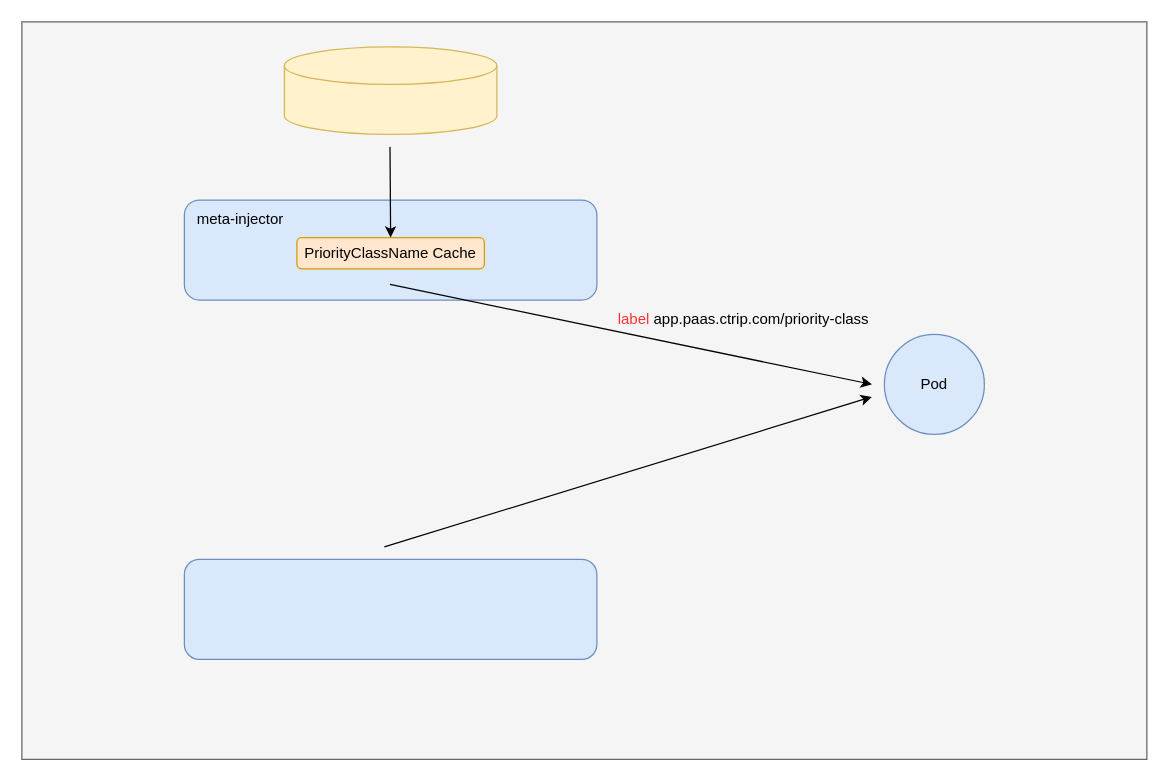
Some shapes in this 1169 by 781 pixel diagram are drawn without their labels. The box of each missing label's shape, as (x1, y1, x2, y2) in pixels:
OPS DB capacity_for_quota: (283, 46, 497, 134)
sched-webhook: (183, 558, 597, 659)
